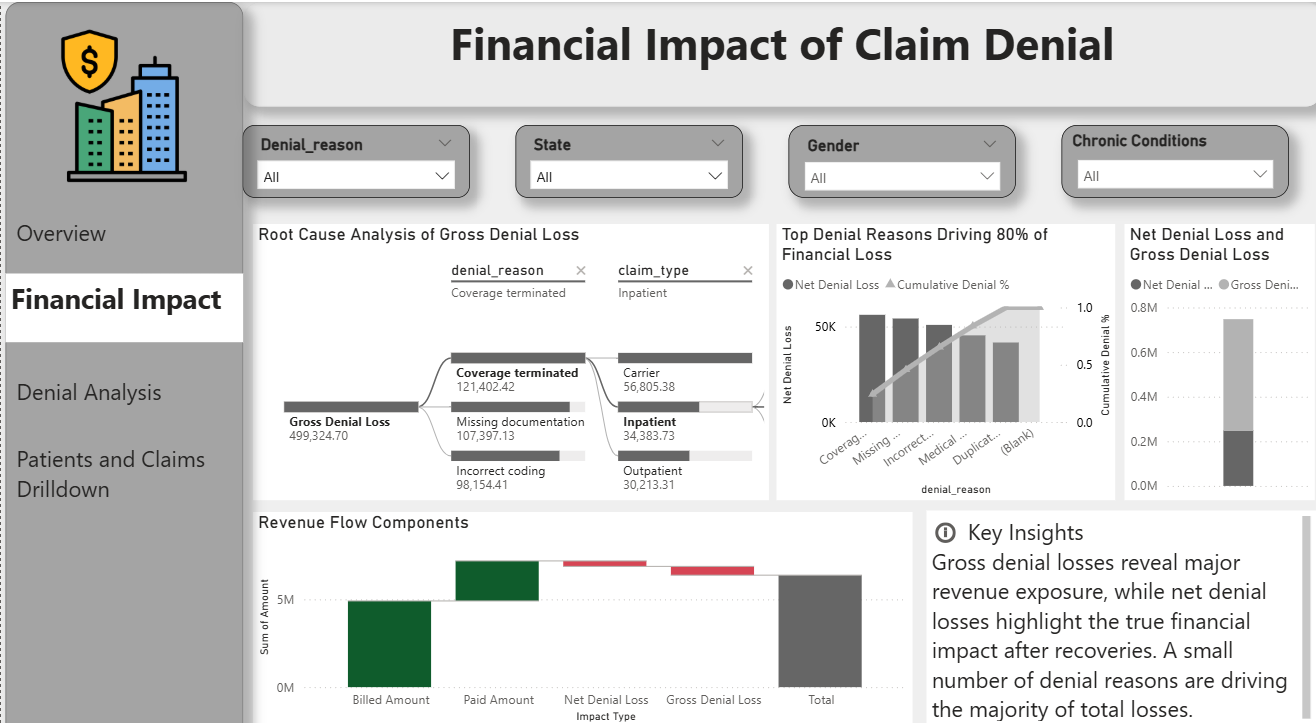

The dashboard page shown, as its layout file describes it:
{"tool":"powerbi","page":{"name":"financial impact","canvas":[1280,720],"ordinal":1},"visuals":[{"type":"decompositionTreeVisual","title":"Root Cause Analysis of Gross Denial Loss","fields":{"ExplainBy":["claims_project_claims.denial_reason","claims_project_claims.claim_type","claims_project_patients.state","claims_project_claims.provider_id"],"Analyze":["claims_project_claims.Gross Denial Loss"]},"box":[244.5,215.4,500.7,267.8],"z":0},{"type":"waterfallChart","title":"Revenue Flow Components","fields":{"Category":["FinancialImpact.Impact Type"],"Y":["Sum(FinancialImpact.Amount)"]},"box":[245.1,494.2,640,208.6],"z":1000},{"type":"lineClusteredColumnComboChart","title":"Top Denial Reasons Driving 80% of Financial Loss","fields":{"Category":["claims_project_claims.denial_reason"],"Y2":["FinancialImpact.Cumulative Denial %"],"Y":["claims_project_claims.Net Denial Loss"]},"box":[752.5,215.4,329,267.8],"z":2000},{"type":"columnChart","fields":{"Y":["claims_project_claims.Net Denial Loss","claims_project_claims.Gross Denial Loss"]},"box":[1090.2,215.4,184.9,267.8],"z":3000},{"type":"slicer","fields":{"Values":["claims_project_claims.denial_reason"]},"box":[234.9,119.5,220.8,70.9],"z":4000},{"type":"slicer","fields":{"Values":["claims_project_providers.state"]},"box":[499.6,119.5,220.8,70.9],"z":5000},{"type":"slicer","fields":{"Values":["claims_project_patients.gender"]},"box":[764.2,119.5,220.8,70.9],"z":6000},{"type":"slicer","title":"Chronic Conditions","fields":{"Values":["claims_project_patients.chf_flag","claims_project_patients.ckd_flag","claims_project_patients.copd_flag","claims_project_patients.diabetes_flag","claims_project_patients.esrd_flag"]},"box":[1028.9,119.5,220.8,70.9],"z":7000},{"type":"textbox","box":[235.2,0,1045.2,101],"z":8000},{"type":"textbox","box":[4.1,0,230.9,719],"z":9000},{"type":"textbox","box":[4.1,263.3,230.9,66.8],"z":10000},{"type":"textbox","box":[897.8,493.6,377.7,208.7],"z":11000},{"type":"actionButton","box":[902.8,495.3,28.2,39.8],"z":12000},{"type":"image","box":[30.4,22.3,178.2,158],"z":13000}]}

Visuals, with their boxes on the page's 1280x720 design canvas (x1, y1, x2, y2). These are canvas units, not pixel positions in the 1316x723 screenshot, which may show the page scaled, cropped or inside an application window:
"Root Cause Analysis of Gross Denial Loss" decompositionTreeVisual: l=244, t=215, r=745, b=483
"Revenue Flow Components" waterfallChart: l=245, t=494, r=885, b=703
"Top Denial Reasons Driving 80% of Financial Loss" lineClusteredColumnComboChart: l=752, t=215, r=1082, b=483
columnChart - claims_project_claims.Net Denial Loss x claims_project_claims.Gross Denial Loss: l=1090, t=215, r=1275, b=483
slicer - claims_project_claims.denial_reason: l=235, t=120, r=456, b=190
slicer - claims_project_providers.state: l=500, t=120, r=720, b=190
slicer - claims_project_patients.gender: l=764, t=120, r=985, b=190
"Chronic Conditions" slicer: l=1029, t=120, r=1250, b=190
textbox: l=235, t=0, r=1280, b=101
textbox: l=4, t=0, r=235, b=719
textbox: l=4, t=263, r=235, b=330
textbox: l=898, t=494, r=1276, b=702
actionButton: l=903, t=495, r=931, b=535
image: l=30, t=22, r=209, b=180
